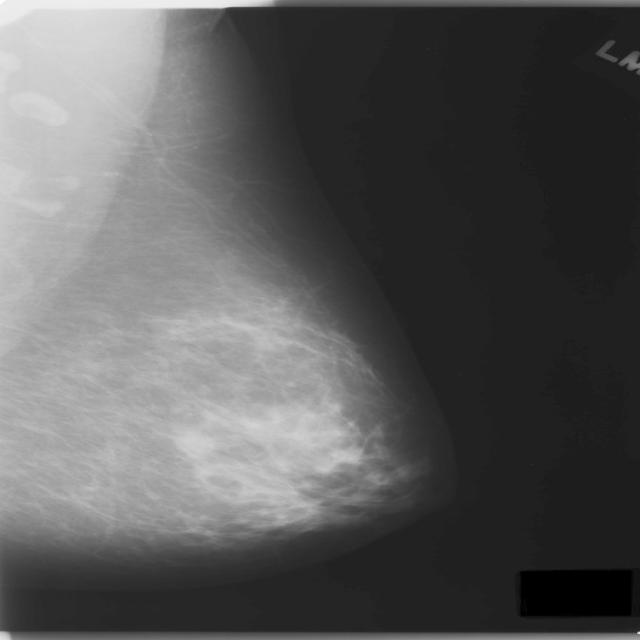tumour: (168, 426, 215, 457)
